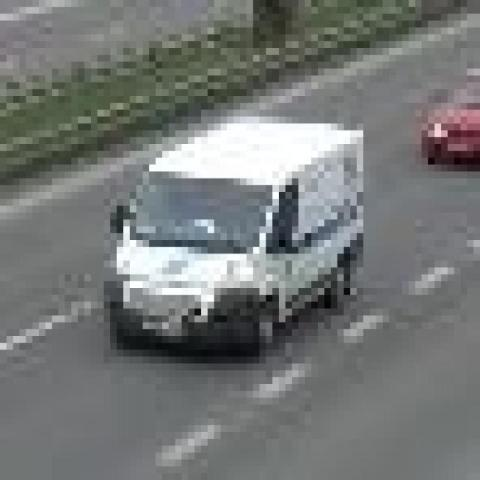van: (104, 124, 364, 357)
